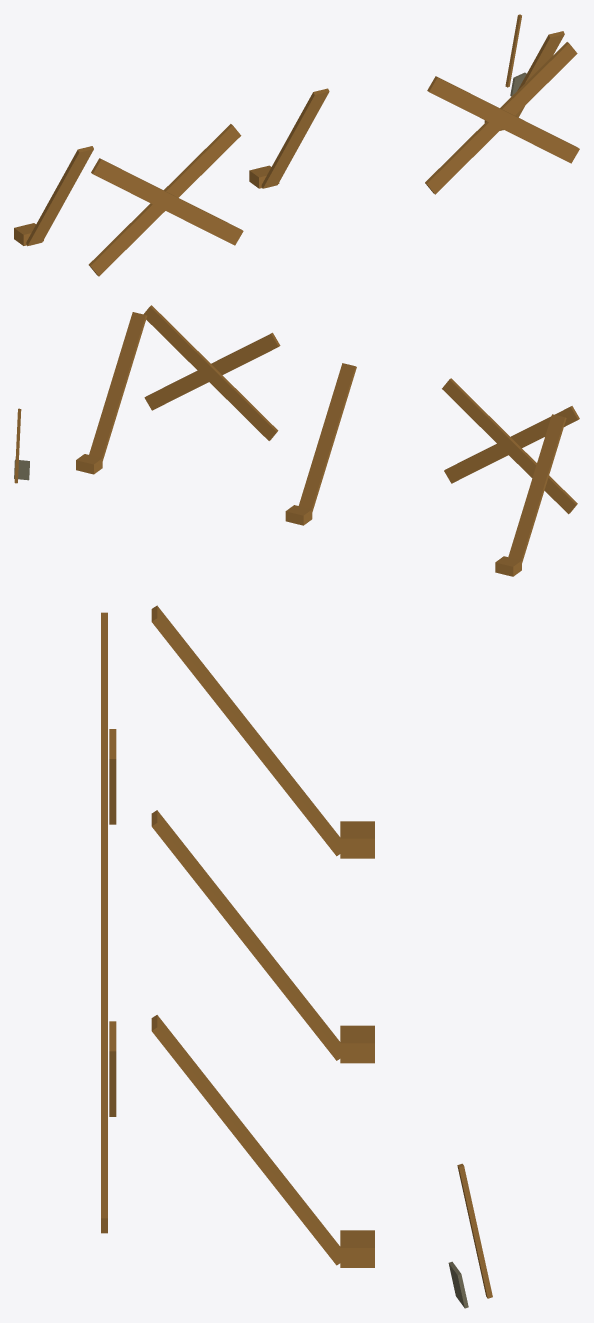
Rendered from SM_ObraPuertaApuntalada_v1_10m_LOD0.fbx.
3 views of the same model, one above another, from view 1: azimuth 30°, elevation 25°; view 2: azimuth 150°, elevation 25°; view 3: azimuth 270°, elevation 25° (orthographic). The views are drawn at different scales.
Parts seen in each view (by area): view 1: SM_obra_curso_v33_LOD0; view 2: SM_obra_curso_v33_LOD0; view 3: SM_obra_curso_v33_LOD0.
Boxes of the visible parts, x1,y1,x2,y2 form: SM_obra_curso_v33_LOD0: (14,14,579,276); SM_obra_curso_v33_LOD0: (14,305,579,576); SM_obra_curso_v33_LOD0: (101,605,492,1308).
Bounding box in the file's own units: 7.97 × 1.92 × 2.83.
